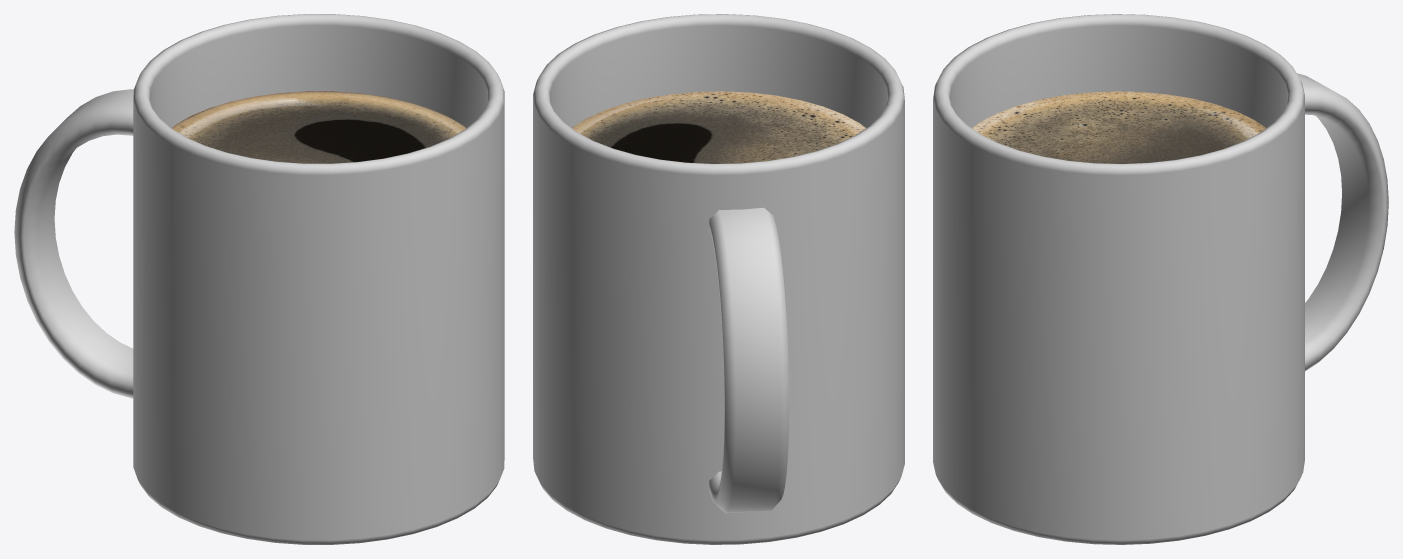
File: cup.fbx
3 views of the same model, side by side, from view 1: azimuth 30°, elevation 25°; view 2: azimuth 150°, elevation 25°; view 3: azimuth 270°, elevation 25° (orthographic).
Parts seen in each view (by area): view 1: Mug1; view 2: Mug1; view 3: Mug1.
Boxes of the visible parts, box(x1,y1,x2,y2) form: Mug1: box(14, 14, 504, 544); Mug1: box(533, 14, 904, 544); Mug1: box(933, 14, 1388, 544).
Bounding box in the file's own units: 2.78 × 2.93 × 3.17.
Materials: 2 (1 with a texture image).
